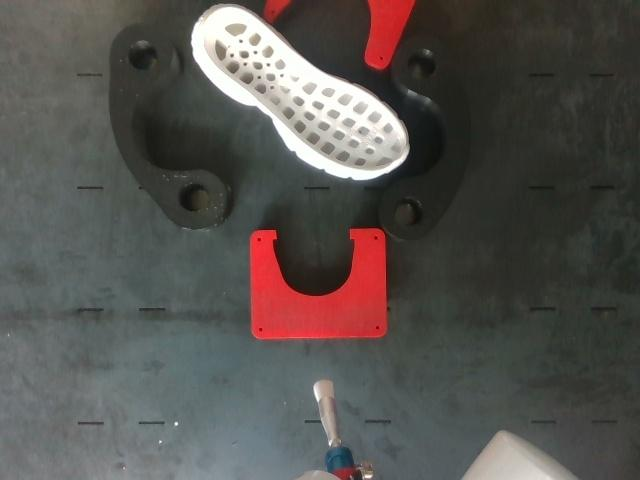shoes: (203, 7, 406, 171)
